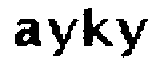a: (13, 17, 43, 50)
k: (79, 7, 114, 49)
y: (43, 16, 80, 59), (115, 14, 149, 60)
